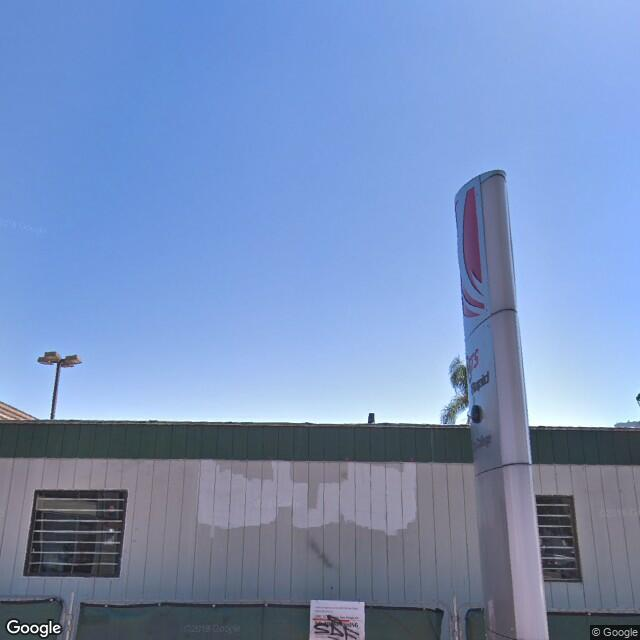light: (36, 348, 82, 369)
window: (28, 485, 120, 587), (537, 497, 577, 580)
